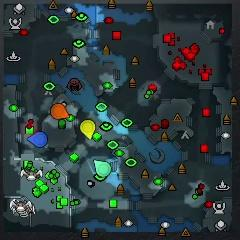p1: (27, 131, 48, 148)
p2: (93, 159, 111, 176)
p4: (79, 119, 96, 139)
p5: (50, 104, 70, 120)
